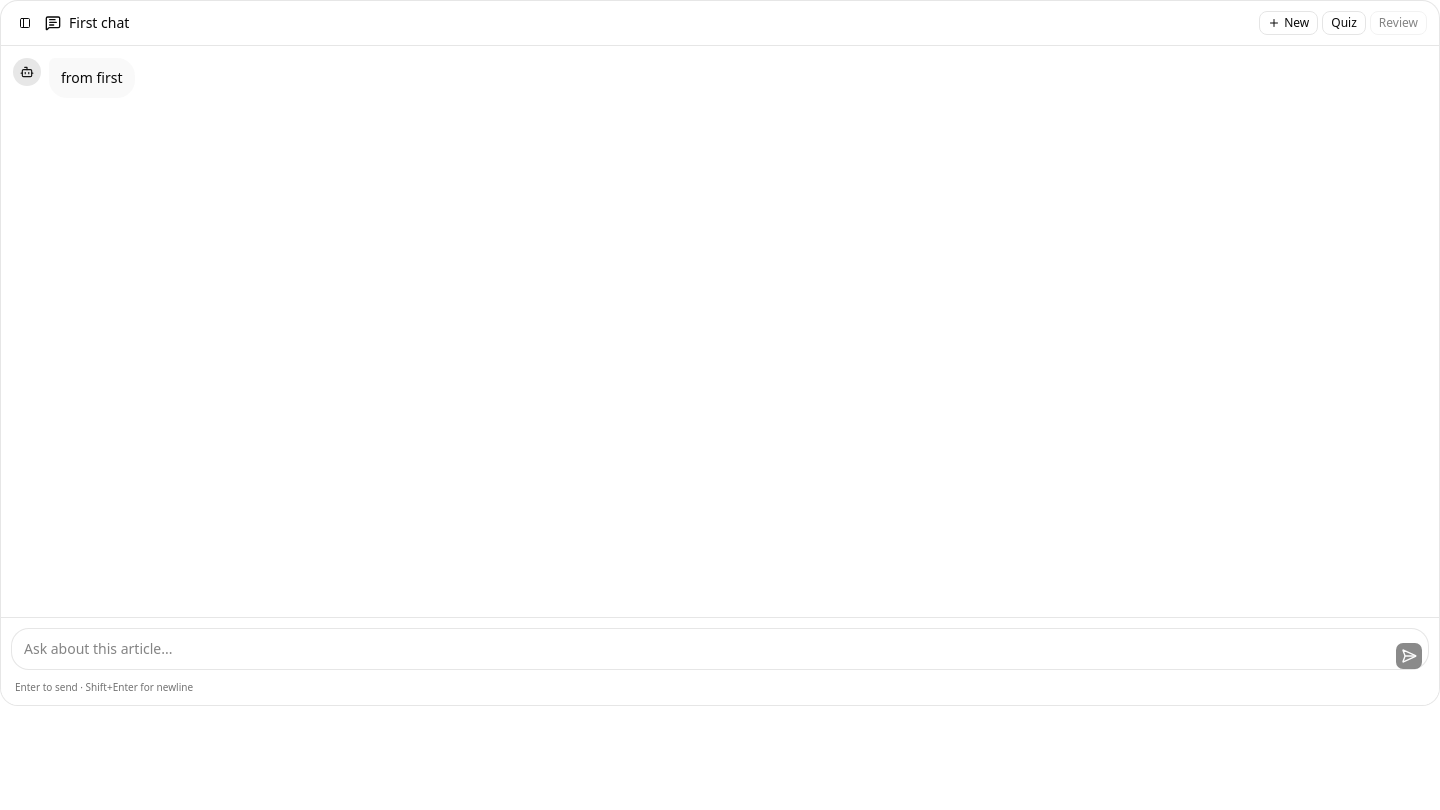
it: TutorPanel › switches between sessions on click
expect the text "from first" is shown: met, box [61,66,122,90]
Click the button named "Toggle chat list" at (25, 23), box [13,11,37,35]
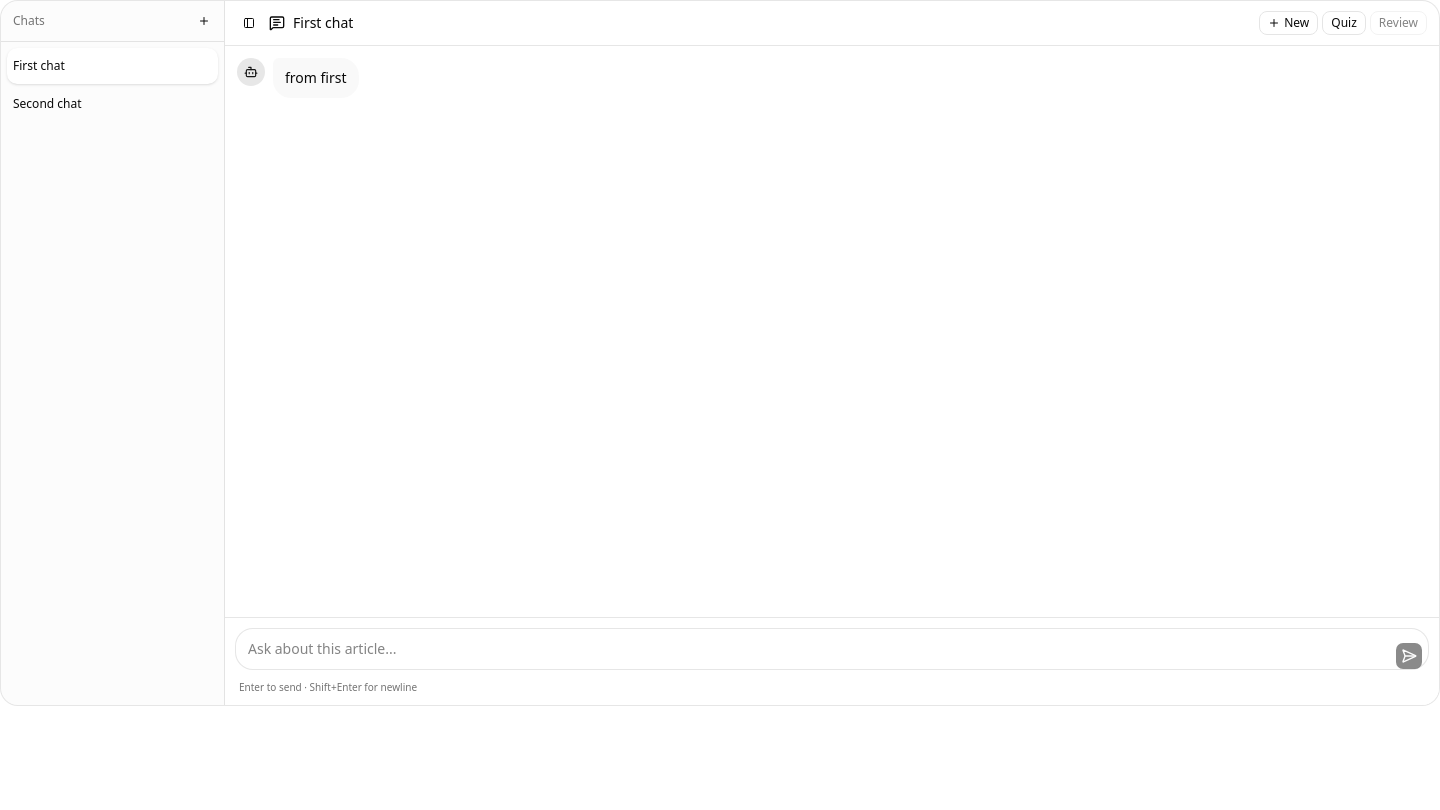
Click the button "Second chat" at (84, 104), box [13,96,156,112]
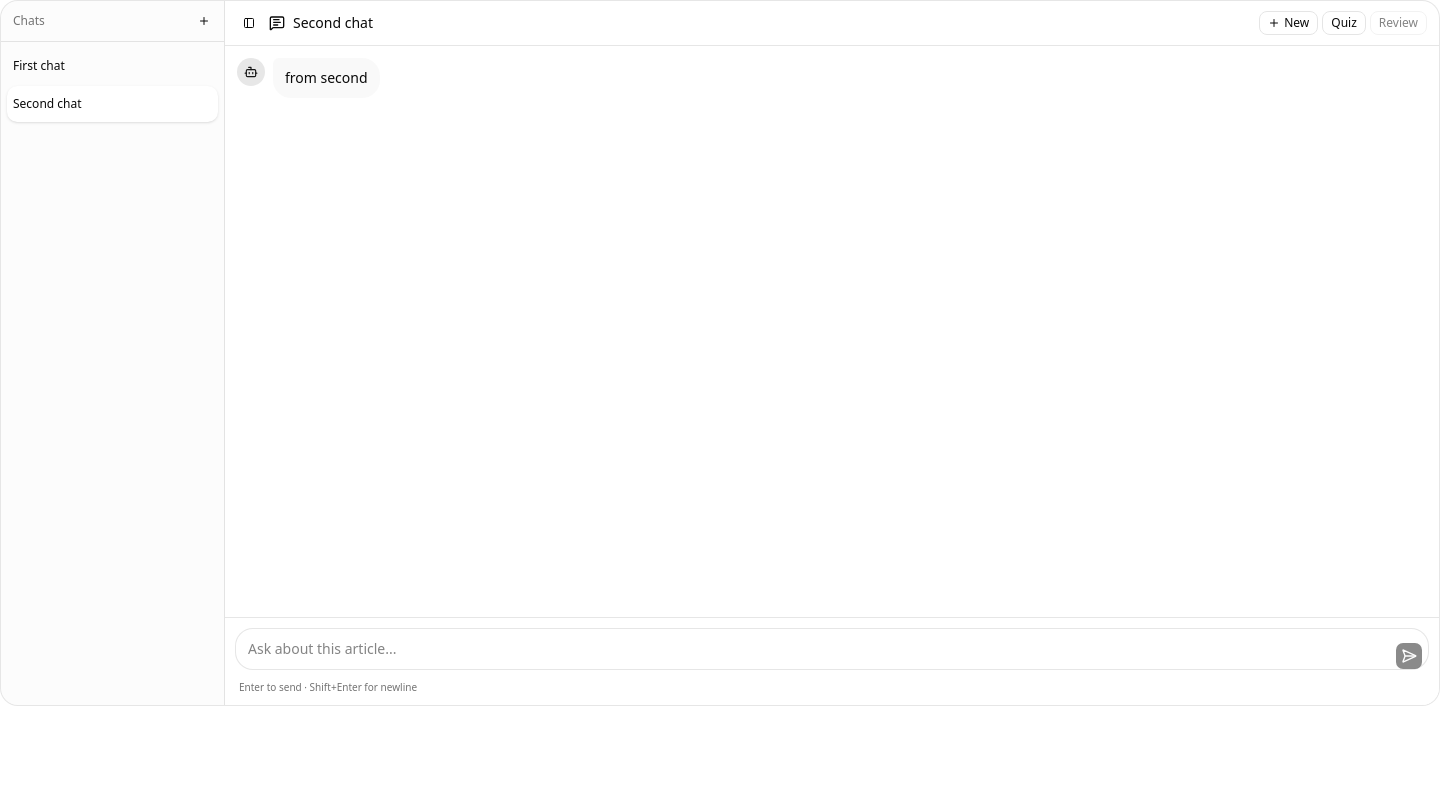
expect the text "from second" is shown: met, box [285,66,368,90]
